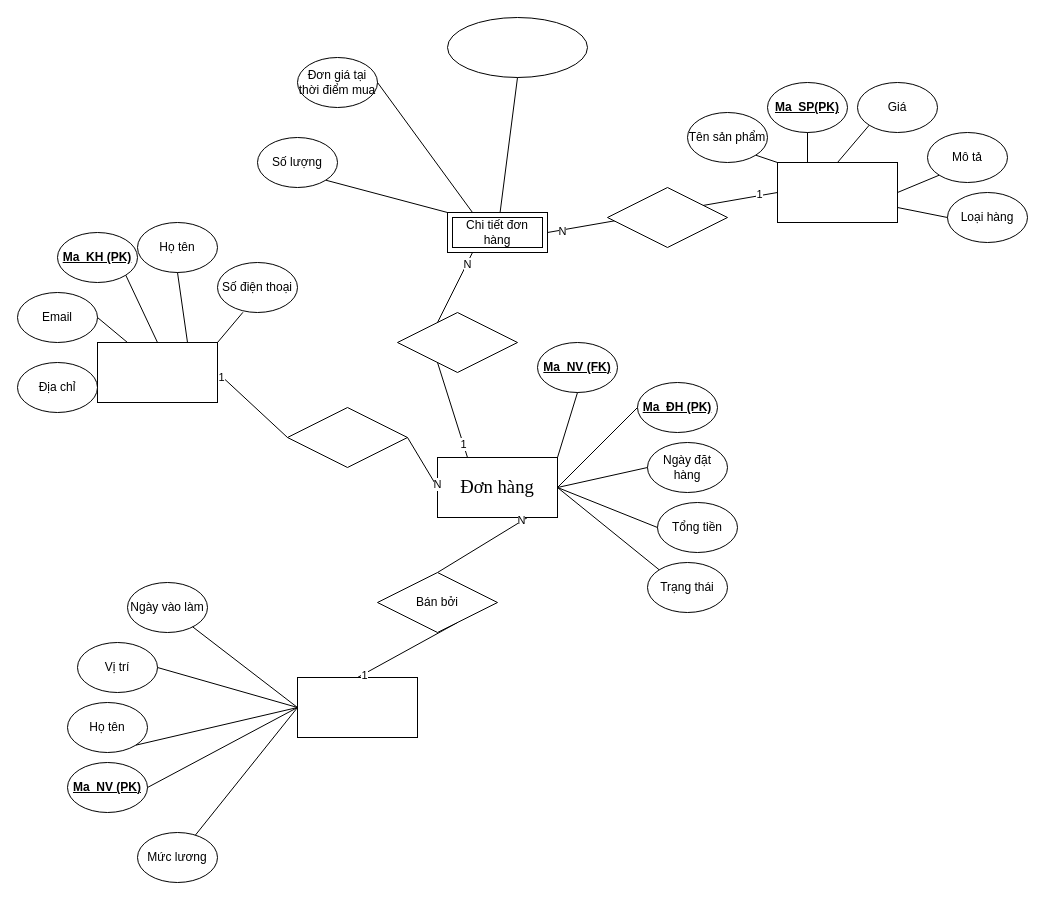
Image size: 1045x900. Some labels were removed from this diagram. Here are the shapes that lost their labels. From the top down, the centre of each, then its label:
At (x=517, y=47): "(Ma_ĐH (FK), Ma_SP(FK))PK".
At (x=837, y=192): "Sản phẩm".
At (x=667, y=217): "Trong".
At (x=457, y=342): "Có".
At (x=157, y=372): "Khách hàng".
At (x=347, y=437): "Mua".
At (x=357, y=707): "Nhân viên".
